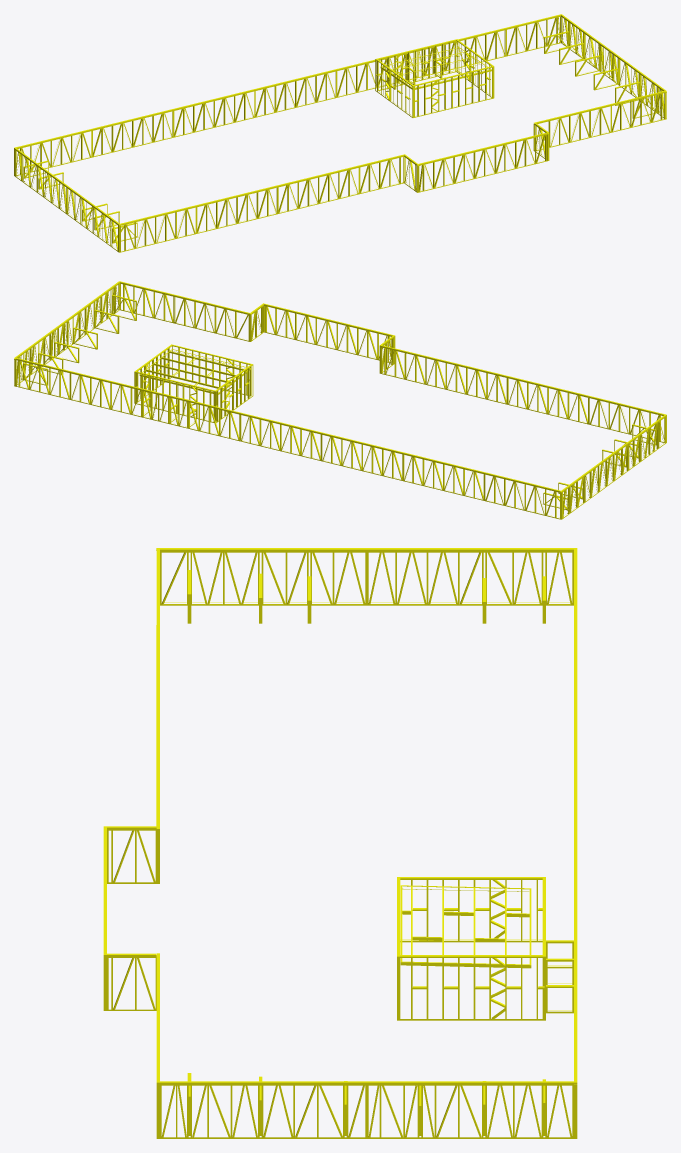
The model's file is trelicas-pv2-r1.glb.
3 renders of one model, top to bottom at view 1: azimuth 30°, elevation 25°; view 2: azimuth 150°, elevation 25°; view 3: azimuth 270°, elevation 25°, orthographic. The views are drawn at different scales.
Visible parts, largest first — view 1: FamilyInstance Modelos genéricos PV2 - 26 <324746 PV2 - 26<, FamilyInstance Modelos genéricos PV2 - 34 <325925 PV2 - 34<, FamilyInstance Modelos genéricos PV2 - 33 <322496 PV2 - 33<, FamilyInstance Modelos genéricos PV2 - 20 <323360 PV2 - 20<, FamilyInstance Modelos genéricos PV2 - 19 <323963 PV2 - 19<, FamilyInstance Modelos genéricos PV2 - 15 <325187 PV2 - 15<, FamilyInstance Modelos genéricos PV2 - 24 <325511 PV2 - 24<, FamilyInstance Modelos genéricos PV2 - 16 <325349 PV2 - 16<, FamilyInstance Modelos genéricos PV2 - 38 <326186 PV2 - 38<, FamilyInstance Modelos genéricos PV2 - 02 <325025 PV2 - 02<, FamilyInstance Modelos genéricos PV2 - 57 <326645 PV2 - 57<, FamilyInstance Modelos genéricos PV2 - 05 <322289 PV2 - 05< (+11 smaller); view 2: FamilyInstance Modelos genéricos PV2 - 26 <324746 PV2 - 26<, FamilyInstance Modelos genéricos PV2 - 32 <327158 PV2 - 32<, FamilyInstance Modelos genéricos PV2 - 38 <326186 PV2 - 38<, FamilyInstance Modelos genéricos PV2 - 30 <325673 PV2 - 30<, FamilyInstance Modelos genéricos PV2 - 05 <322289 PV2 - 05<, FamilyInstance Modelos genéricos PV2 - 24 <325511 PV2 - 24<, FamilyInstance Modelos genéricos PV2 - 03 <322955 PV2 - 03<, FamilyInstance Modelos genéricos PV2 - 19 <323963 PV2 - 19<, FamilyInstance Modelos genéricos PV2 - 20 <323360 PV2 - 20<, FamilyInstance Modelos genéricos PV2 - 15 <325187 PV2 - 15<, FamilyInstance Modelos genéricos PV2 - 16 <325349 PV2 - 16<, FamilyInstance Modelos genéricos PV2 - 55 <326879 PV2 - 55< (+11 smaller); view 3: FamilyInstance Modelos genéricos PV2 - 57 <326645 PV2 - 57<, FamilyInstance Modelos genéricos PV2 - 55 <326879 PV2 - 55<, FamilyInstance Modelos genéricos PV2 - 05 <322289 PV2 - 05<, FamilyInstance Modelos genéricos PV2 - 03 <322955 PV2 - 03<, FamilyInstance Modelos genéricos PV2 - 44 <322730 PV2 - 44<, FamilyInstance Modelos genéricos PV2 - 32 <327158 PV2 - 32<, FamilyInstance Modelos genéricos PV2 - 31 <323702 PV2 - 31<, FamilyInstance Modelos genéricos PV2 - 28 <325853 PV2 - 28<, FamilyInstance Modelos genéricos PV2 - 40 <324143 PV2 - 40<.
Boxes of the visible parts, left/top/right/bottom form: FamilyInstance Modelos genéricos PV2 - 26 <324746 PV2 - 26<: left=416, top=133, right=549, bottom=192; FamilyInstance Modelos genéricos PV2 - 34 <325925 PV2 - 34<: left=377, top=39, right=456, bottom=90; FamilyInstance Modelos genéricos PV2 - 33 <322496 PV2 - 33<: left=414, top=66, right=492, bottom=117; FamilyInstance Modelos genéricos PV2 - 20 <323360 PV2 - 20<: left=172, top=90, right=254, bottom=137; FamilyInstance Modelos genéricos PV2 - 19 <323963 PV2 - 19<: left=277, top=167, right=359, bottom=213; FamilyInstance Modelos genéricos PV2 - 15 <325187 PV2 - 15<: left=196, top=187, right=277, bottom=233; FamilyInstance Modelos genéricos PV2 - 24 <325511 PV2 - 24<: left=255, top=70, right=336, bottom=117; FamilyInstance Modelos genéricos PV2 - 16 <325349 PV2 - 16<: left=92, top=110, right=173, bottom=157; FamilyInstance Modelos genéricos PV2 - 38 <326186 PV2 - 38<: left=418, top=29, right=506, bottom=77; FamilyInstance Modelos genéricos PV2 - 02 <325025 PV2 - 02<: left=118, top=206, right=196, bottom=252; FamilyInstance Modelos genéricos PV2 - 57 <326645 PV2 - 57<: left=561, top=16, right=614, bottom=80; FamilyInstance Modelos genéricos PV2 - 05 <322289 PV2 - 05<: left=15, top=149, right=67, bottom=213; FamilyInstance Modelos genéricos PV2 - 26 <324746 PV2 - 26<: left=263, top=305, right=395, bottom=363; FamilyInstance Modelos genéricos PV2 - 32 <327158 PV2 - 32<: left=139, top=349, right=250, bottom=394; FamilyInstance Modelos genéricos PV2 - 38 <326186 PV2 - 38<: left=70, top=372, right=158, bottom=421; FamilyInstance Modelos genéricos PV2 - 30 <325673 PV2 - 30<: left=158, top=394, right=240, bottom=441; FamilyInstance Modelos genéricos PV2 - 05 <322289 PV2 - 05<: left=562, top=454, right=614, bottom=518; FamilyInstance Modelos genéricos PV2 - 24 <325511 PV2 - 24<: left=240, top=414, right=321, bottom=461; FamilyInstance Modelos genéricos PV2 - 03 <322955 PV2 - 03<: left=613, top=416, right=665, bottom=480; FamilyInstance Modelos genéricos PV2 - 19 <323963 PV2 - 19<: left=426, top=357, right=508, bottom=404; FamilyInstance Modelos genéricos PV2 - 20 <323360 PV2 - 20<: left=321, top=434, right=403, bottom=480; FamilyInstance Modelos genéricos PV2 - 15 <325187 PV2 - 15<: left=507, top=377, right=588, bottom=424; FamilyInstance Modelos genéricos PV2 - 16 <325349 PV2 - 16<: left=403, top=454, right=484, bottom=500; FamilyInstance Modelos genéricos PV2 - 55 <326879 PV2 - 55<: left=66, top=283, right=119, bottom=347; FamilyInstance Modelos genéricos PV2 - 57 <326645 PV2 - 57<: left=367, top=1084, right=573, bottom=1138; FamilyInstance Modelos genéricos PV2 - 55 <326879 PV2 - 55<: left=160, top=1084, right=366, bottom=1138; FamilyInstance Modelos genéricos PV2 - 05 <322289 PV2 - 05<: left=367, top=551, right=573, bottom=605; FamilyInstance Modelos genéricos PV2 - 03 <322955 PV2 - 03<: left=160, top=551, right=366, bottom=605; FamilyInstance Modelos genéricos PV2 - 44 <322730 PV2 - 44<: left=397, top=955, right=545, bottom=1020; FamilyInstance Modelos genéricos PV2 - 32 <327158 PV2 - 32<: left=400, top=885, right=531, bottom=968; FamilyInstance Modelos genéricos PV2 - 31 <323702 PV2 - 31<: left=397, top=877, right=545, bottom=942; FamilyInstance Modelos genéricos PV2 - 28 <325853 PV2 - 28<: left=107, top=827, right=159, bottom=883; FamilyInstance Modelos genéricos PV2 - 40 <324143 PV2 - 40<: left=107, top=955, right=156, bottom=1010.
Size of the model in its own units: 32.27 by 2.04 by 12.09.
